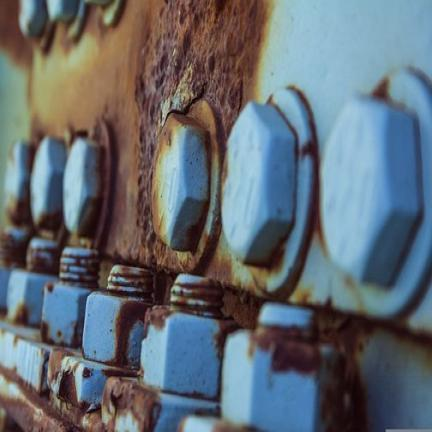karat: (105, 6, 267, 283)
